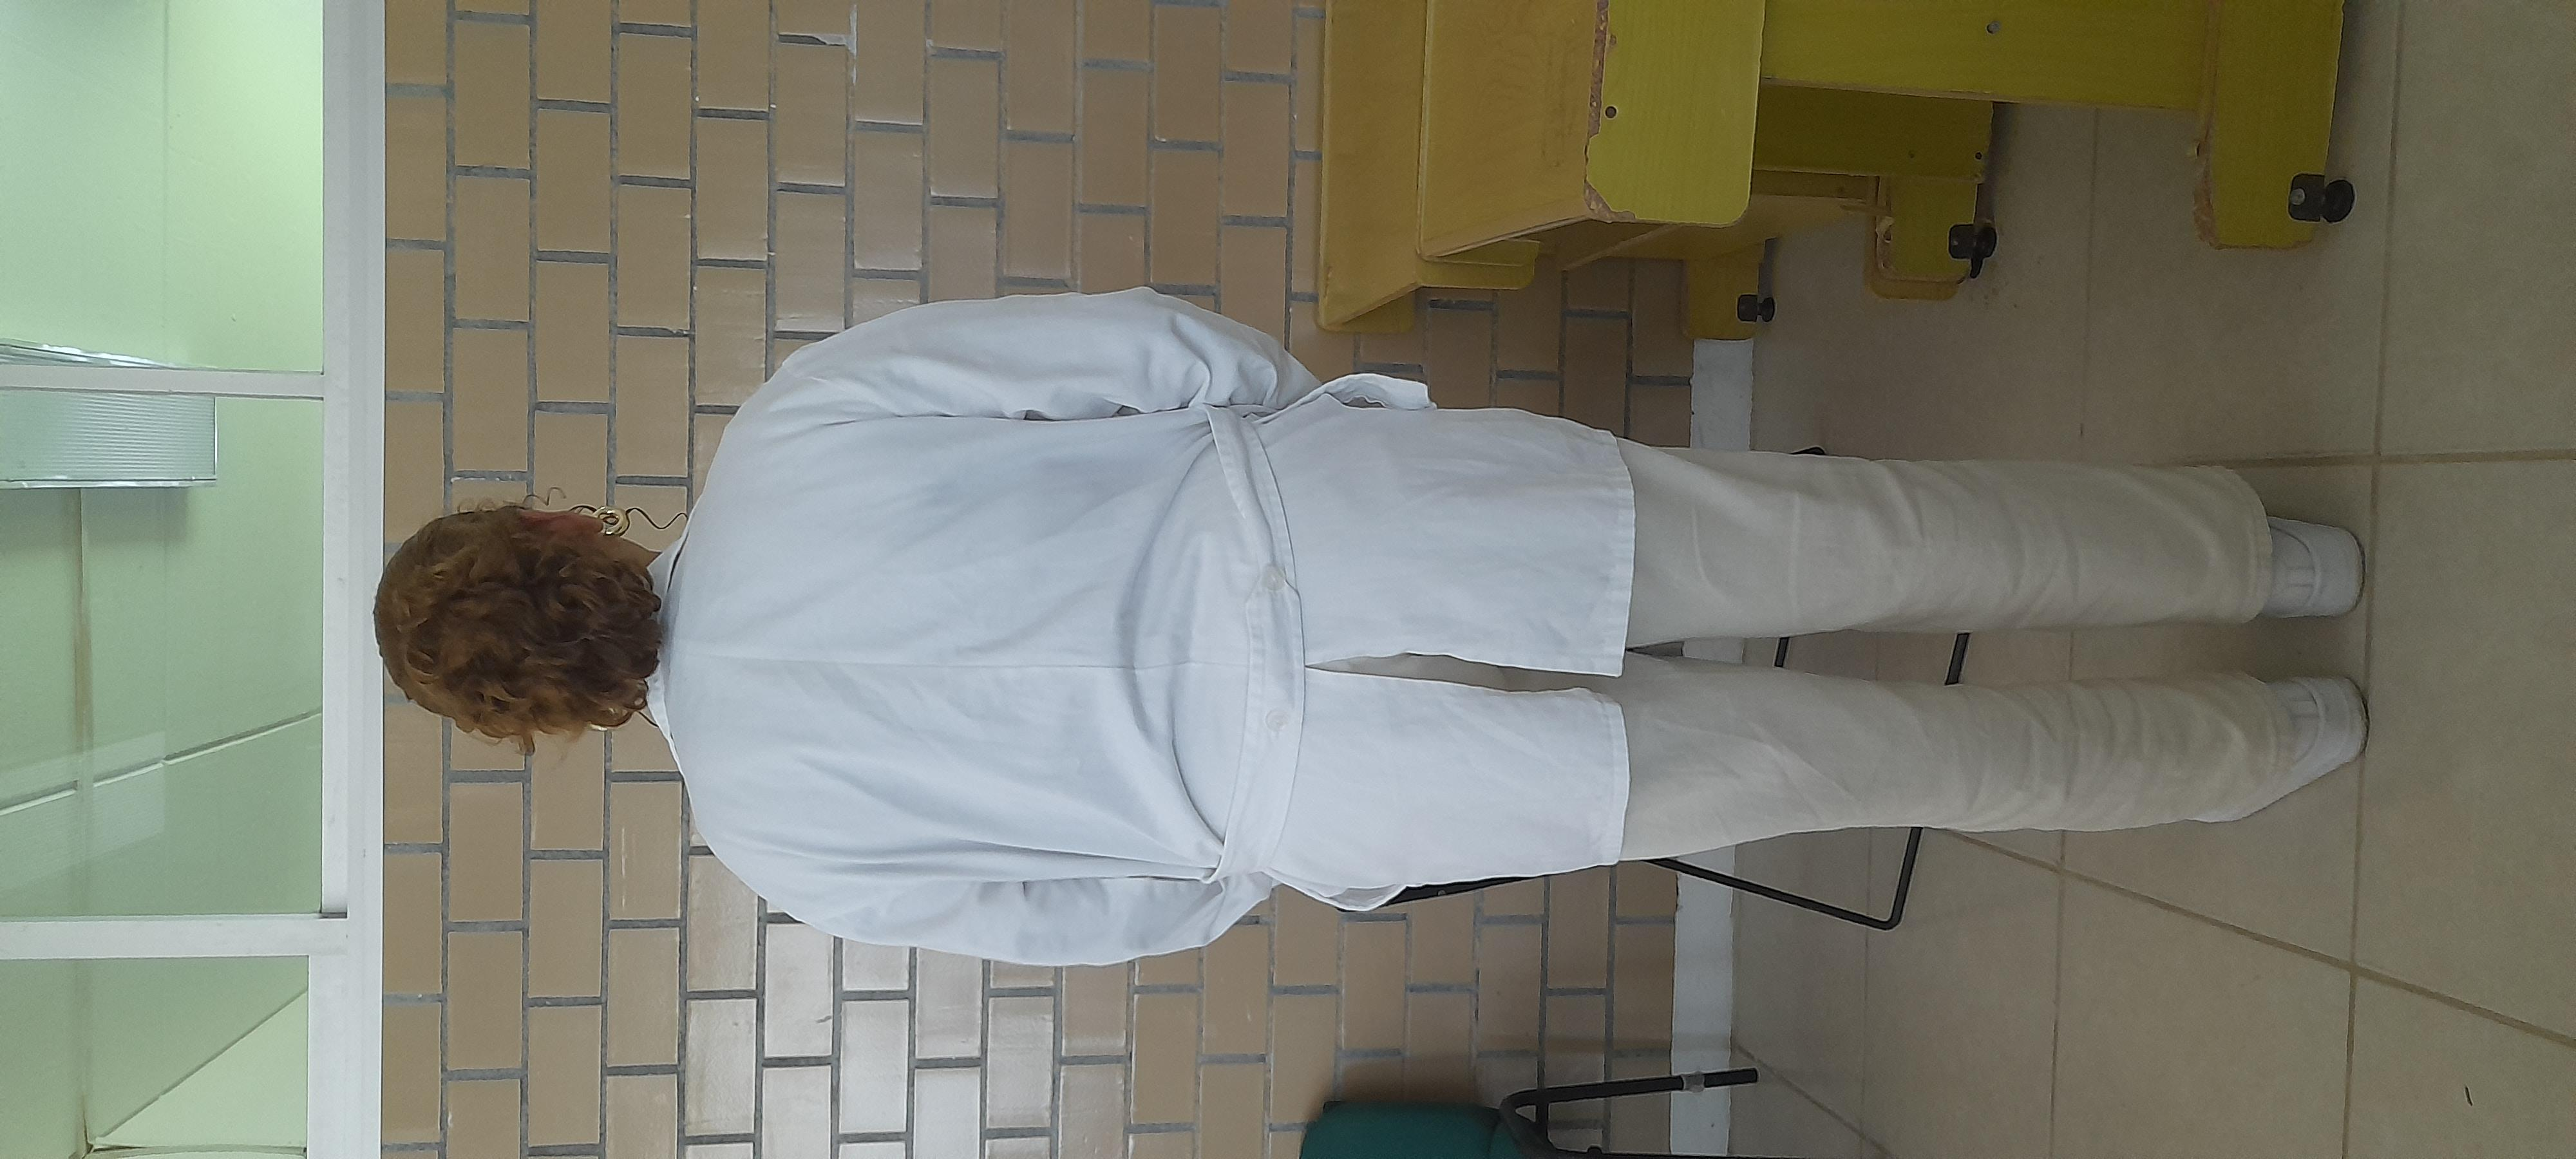Bata-Correcta: (258, 163, 2032, 1083)
